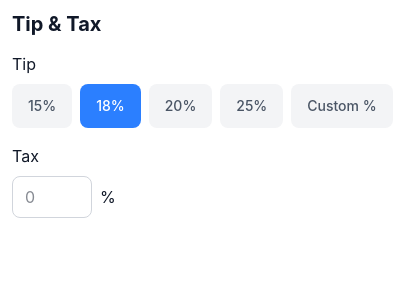
it: SettingsPanel › clicking "Custom %" shows an input field
What coordinates should you click on to do the following:
click the radio button labelled "Custom %"
I would click on:
 (342, 106)
Its box is [291,84,393,128].
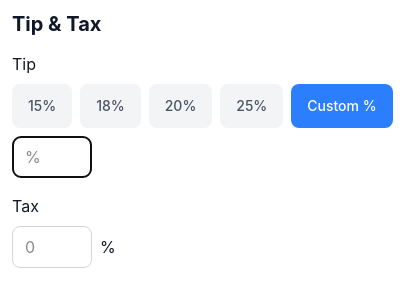
expect the field with placeholder "%" is shown: met, box [12,136,92,178]
